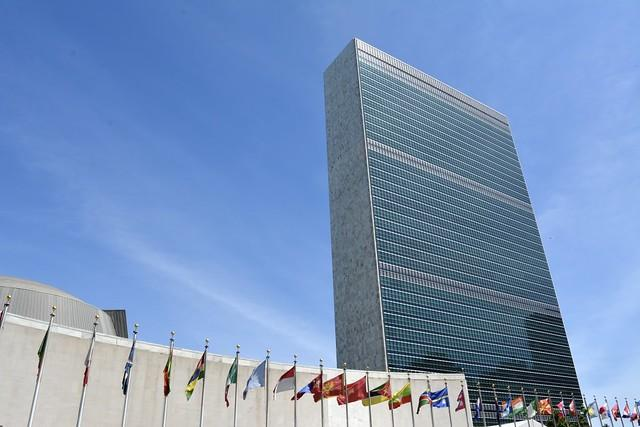building: (319, 33, 591, 427)
